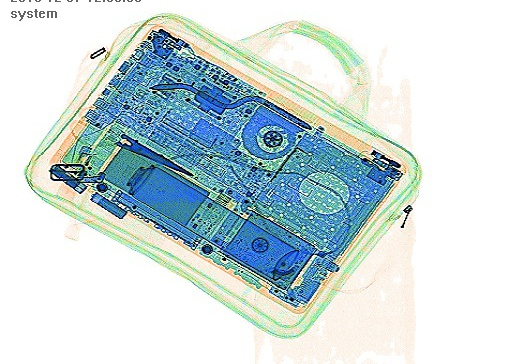pressure: (125, 162, 299, 280)
scissors: (70, 102, 193, 178)
